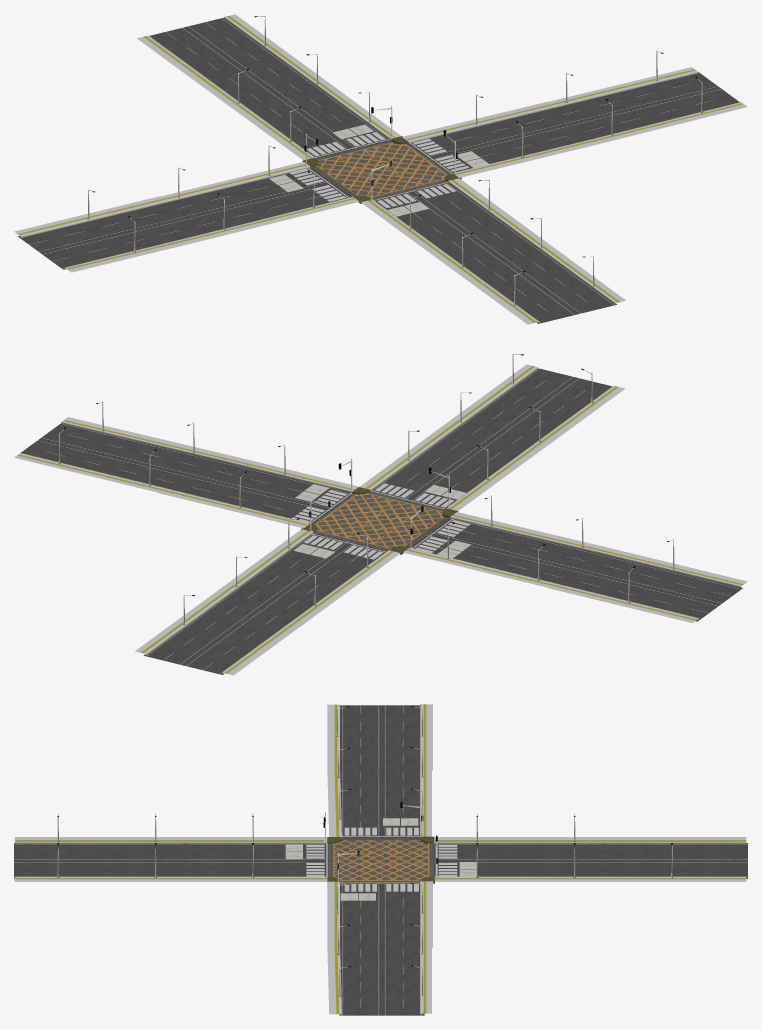
The model's file is uploads-files-4395245-Road+Junction.obj.
3 views of the same model, one above another, from view 1: azimuth 30°, elevation 25°; view 2: azimuth 150°, elevation 25°; view 3: azimuth 270°, elevation 25° (orthographic). The views are drawn at different scales.
Parts seen in each view (by area): view 1: Road.003, Road.002, Road.004, Road.001, Plane, Plane.001, Main_path.014, Main_path.006, Main_path.012, Main_path.004, Main_path.013, Main_path.005 (+10 smaller); view 2: Road.002, Road.003, Road.004, Road.001, Plane, Plane.001, Main_path.005, Main_path.013, Main_path.006, Main_path.012, Main_path.014, Main_path.004 (+10 smaller); view 3: Road.001, Road.003, Road.002, Road.004, Plane, Plane.001, Main_path.012, Main_path.004, Main_path.006, Main_path.014, Main_path.007, Main_path.005 (+10 smaller).
Boxes of the visible parts, x1=… form: Road.003: x1=373, y1=182, x2=616, y2=323; Road.002: x1=149, y1=17, x2=390, y2=158; Road.004: x1=18, y1=167, x2=350, y2=269; Road.001: x1=408, y1=72, x2=739, y2=173; Plane: x1=311, y1=140, x2=448, y2=199; Plane.001: x1=316, y1=143, x2=445, y2=196; Main_path.014: x1=210, y1=197, x2=359, y2=237; Main_path.006: x1=598, y1=102, x2=747, y2=142; Main_path.012: x1=65, y1=233, x2=215, y2=272; Main_path.004: x1=453, y1=138, x2=603, y2=177; Main_path.013: x1=14, y1=196, x2=164, y2=235; Main_path.005: x1=402, y1=102, x2=552, y2=141; Road.002: x1=143, y1=532, x2=387, y2=674; Road.003: x1=371, y1=368, x2=612, y2=509; Road.004: x1=411, y1=518, x2=742, y2=621; Road.001: x1=21, y1=423, x2=353, y2=523; Plane: x1=312, y1=491, x2=449, y2=550; Plane.001: x1=315, y1=494, x2=443, y2=547; Main_path.005: x1=158, y1=488, x2=309, y2=528; Main_path.013: x1=547, y1=583, x2=698, y2=623; Main_path.006: x1=62, y1=417, x2=213, y2=455; Main_path.012: x1=596, y1=546, x2=747, y2=585; Main_path.014: x1=451, y1=512, x2=602, y2=550; Main_path.004: x1=208, y1=451, x2=358, y2=491; Road.001: x1=339, y1=882, x2=424, y2=1015; Road.003: x1=14, y1=843, x2=328, y2=878; Road.002: x1=433, y1=843, x2=747, y2=878; Road.004: x1=340, y1=705, x2=419, y2=837; Plane: x1=328, y1=838, x2=433, y2=882; Plane.001: x1=334, y1=840, x2=427, y2=880; Main_path.012: x1=327, y1=704, x2=339, y2=770; Main_path.004: x1=327, y1=881, x2=339, y2=947; Main_path.006: x1=327, y1=947, x2=341, y2=1014; Main_path.014: x1=327, y1=770, x2=341, y2=836; Main_path.007: x1=420, y1=947, x2=431, y2=1013; Main_path.005: x1=421, y1=881, x2=432, y2=947.
Bounding box in the file's own units: 98.33 × 5.18 × 98.35.
